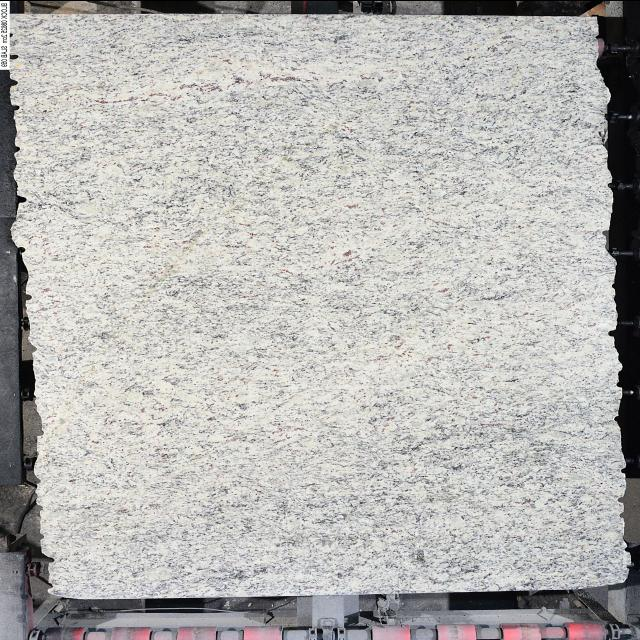chapa: (10, 14, 628, 598)
